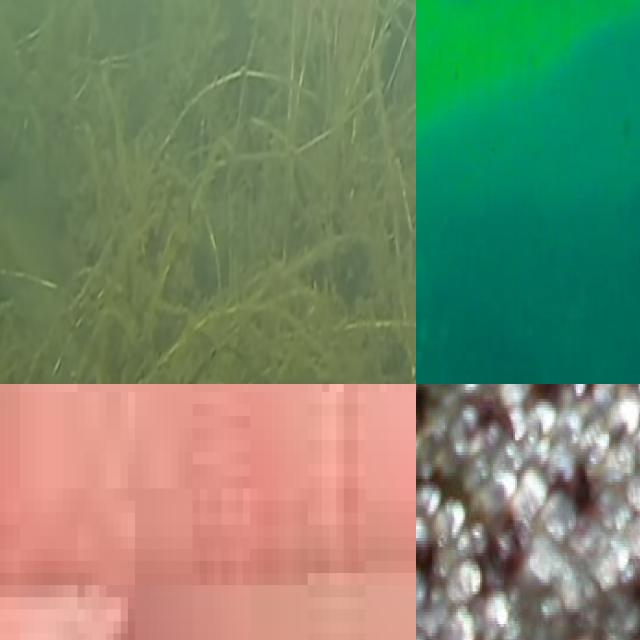fish: (0, 0, 416, 384), (416, 384, 640, 640), (200, 384, 416, 633)
